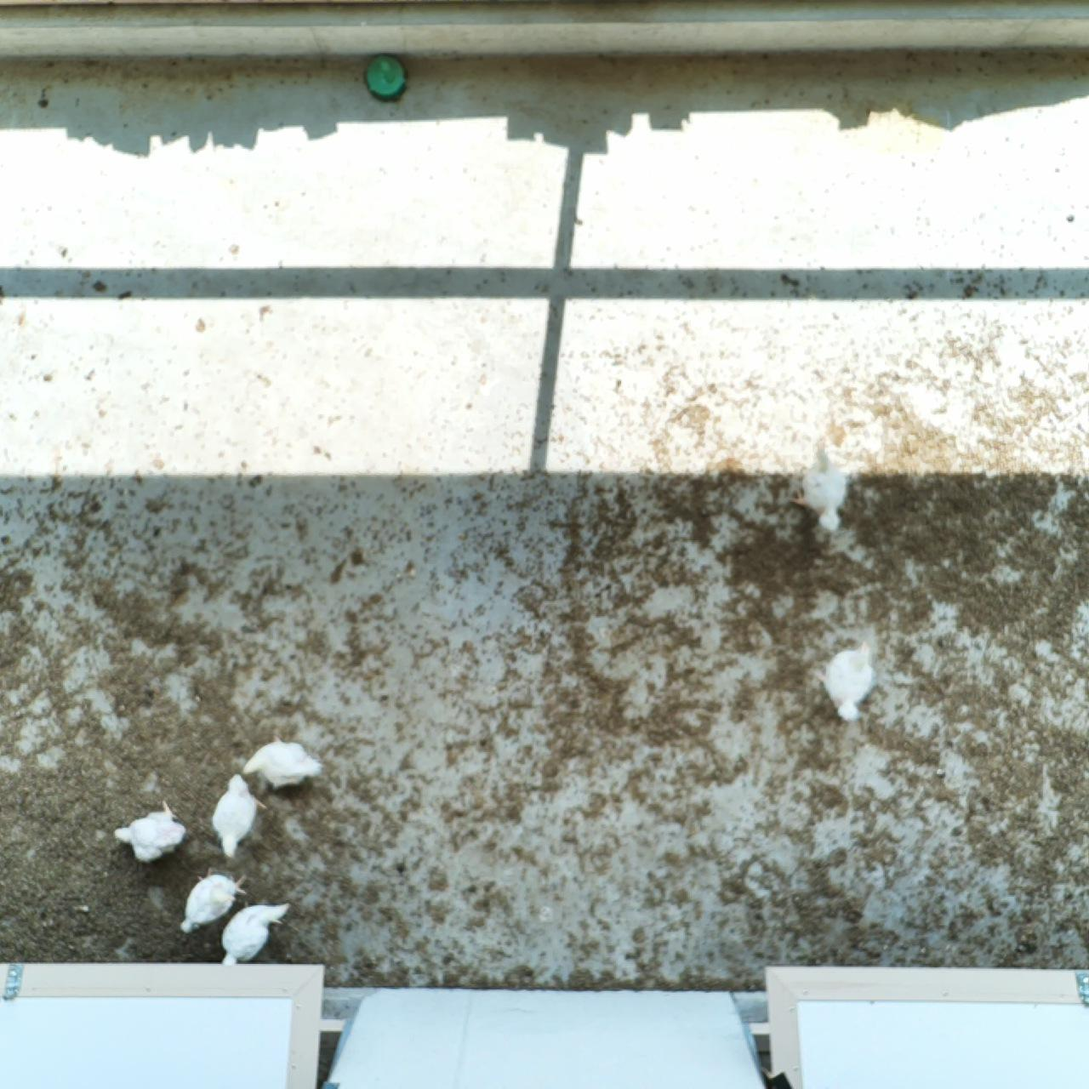chicken: (792, 432, 851, 533), (218, 899, 293, 973), (814, 639, 879, 724), (113, 796, 188, 867), (210, 772, 269, 861), (240, 733, 323, 790), (180, 869, 248, 935)
